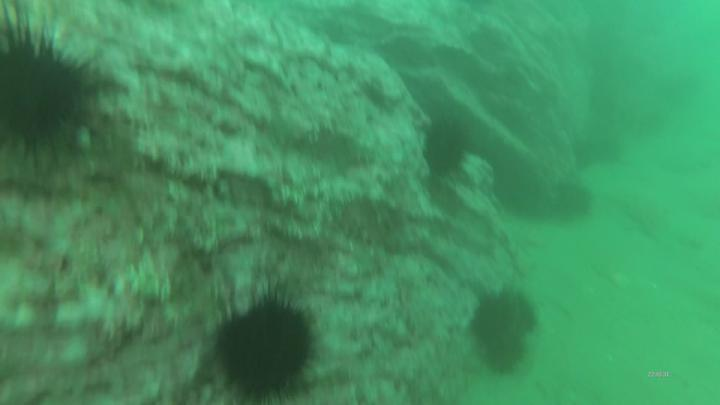echinus: (2, 1, 94, 163), (206, 281, 320, 405), (470, 283, 540, 381), (419, 111, 475, 182), (549, 173, 597, 223)
